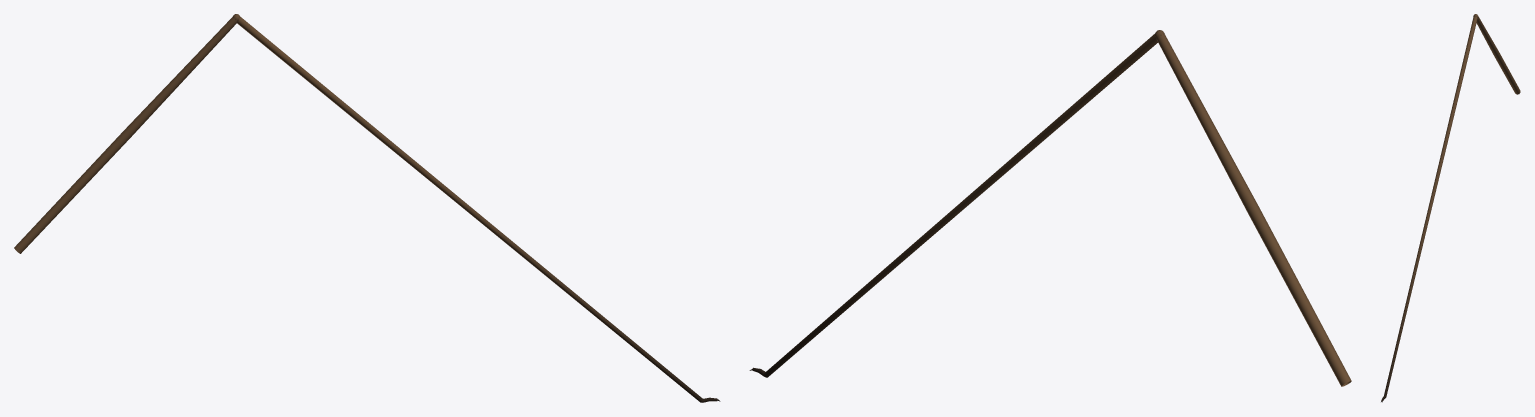
File: Zatoumushi_Leg3.fbx
3 renders of one model, left to right at view 1: azimuth 30°, elevation 25°; view 2: azimuth 150°, elevation 25°; view 3: azimuth 270°, elevation 25°, orthographic. The views are drawn at different scales.
Visible parts, largest first — view 1: Zatoumushi_Leg3; view 2: Zatoumushi_Leg3; view 3: Zatoumushi_Leg3.
Boxes of the visible parts, left/top/right/bottom form: Zatoumushi_Leg3: left=14, top=14, right=720, bottom=402; Zatoumushi_Leg3: left=749, top=30, right=1351, bottom=386; Zatoumushi_Leg3: left=1381, top=14, right=1520, bottom=402.
Bounding box in the file's own units: 1.85 × 1.28 × 0.6104.
